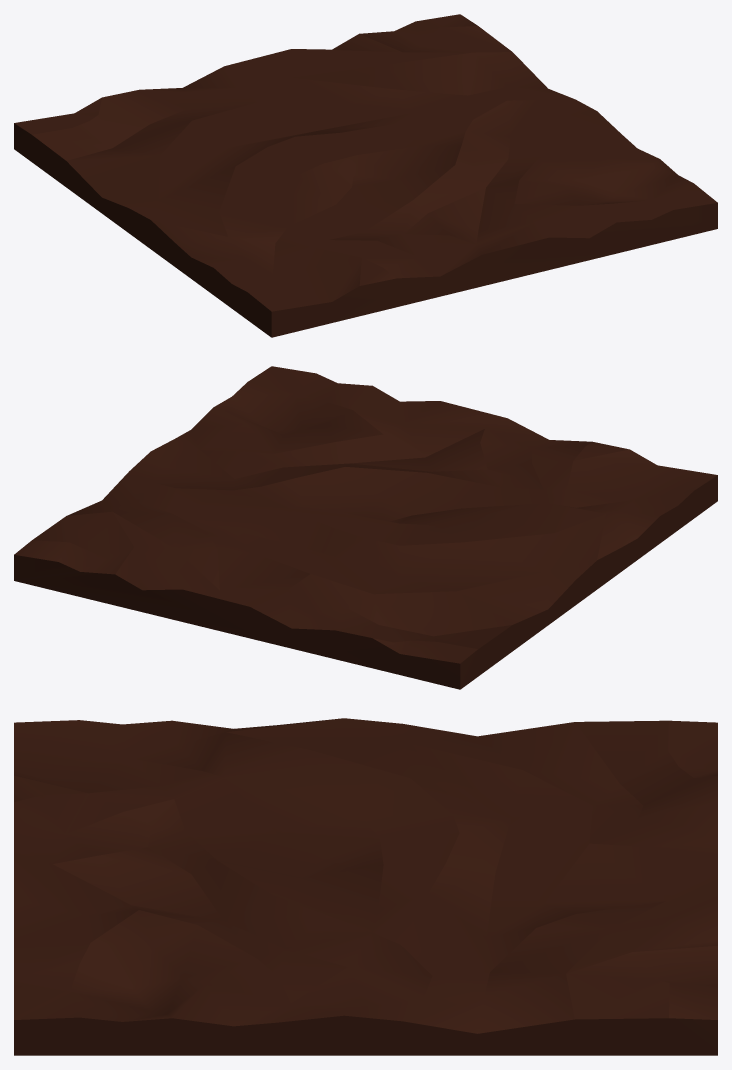
The model's file is Ground_Base_A.fbx.
3 renders of one model, top to bottom at view 1: azimuth 30°, elevation 25°; view 2: azimuth 150°, elevation 25°; view 3: azimuth 270°, elevation 25°, orthographic. The views are drawn at different scales.
Visible parts, largest first — view 1: Ground_Base_A; view 2: Ground_Base_A; view 3: Ground_Base_A.
Part boxes in pixels (x1,y1,x2,y2): Ground_Base_A: (14, 14, 717, 337); Ground_Base_A: (14, 366, 717, 689); Ground_Base_A: (14, 718, 717, 1055).
Size of the model in its own units: 147 by 12.24 by 147.
